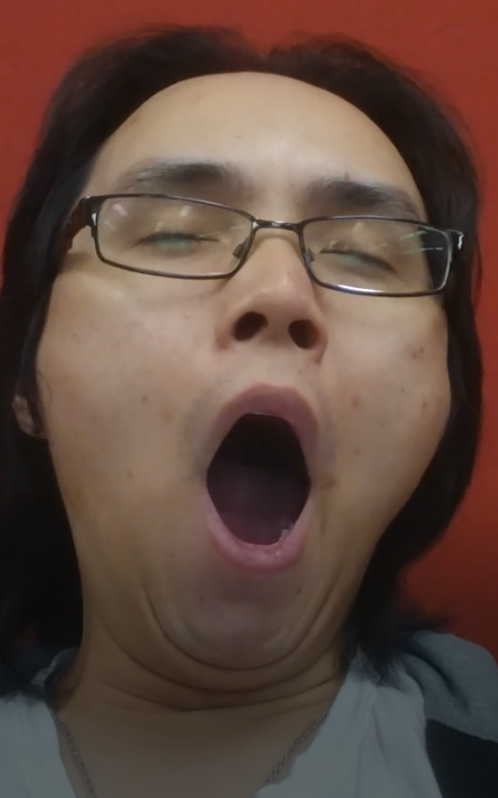Sleeping: (105, 176, 442, 316)
